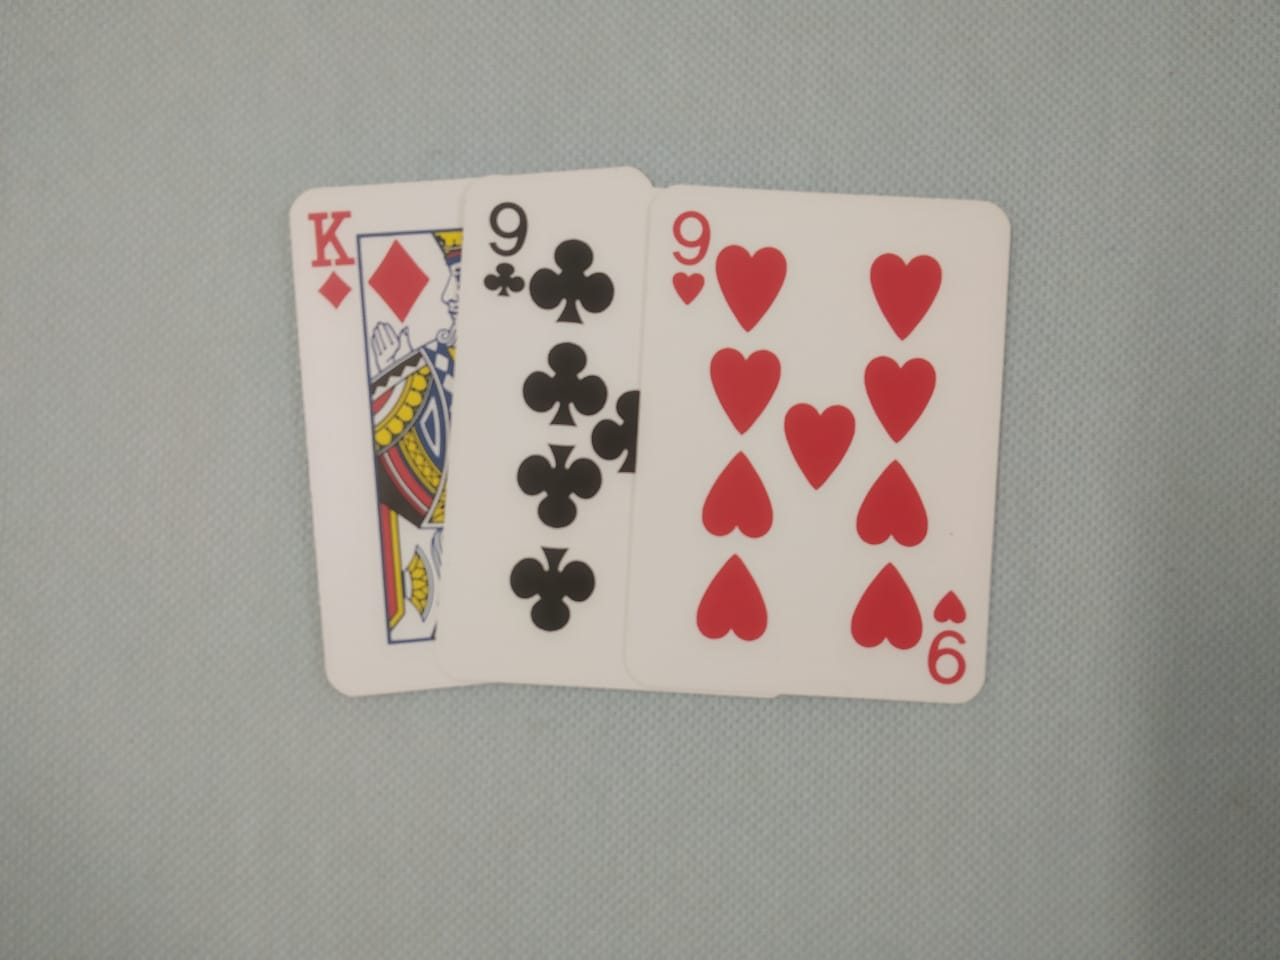king: (273, 177, 660, 703)
nine: (627, 162, 998, 715), (458, 174, 836, 712)
